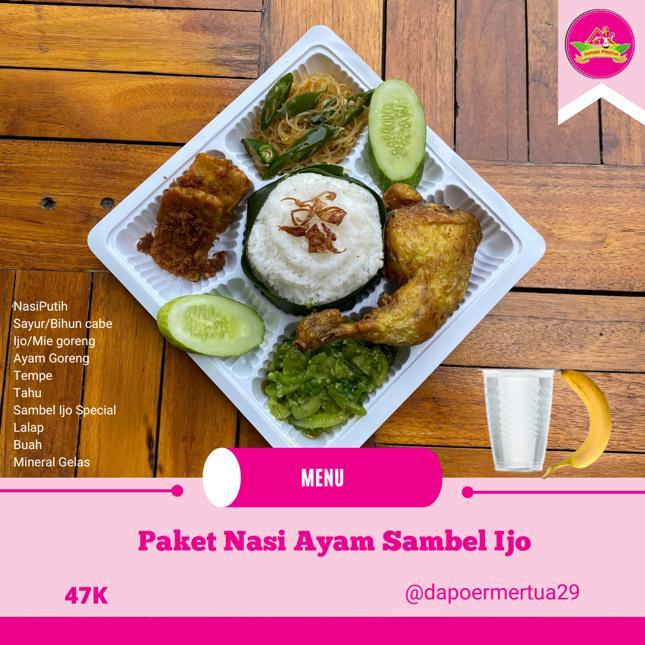buah_sayur_lainnya: (377, 90, 414, 164), (170, 313, 252, 339)
daging: (395, 214, 462, 300)
kacang_legume: (167, 192, 207, 265)
makanan_berpati: (273, 190, 371, 280), (277, 97, 348, 157)
